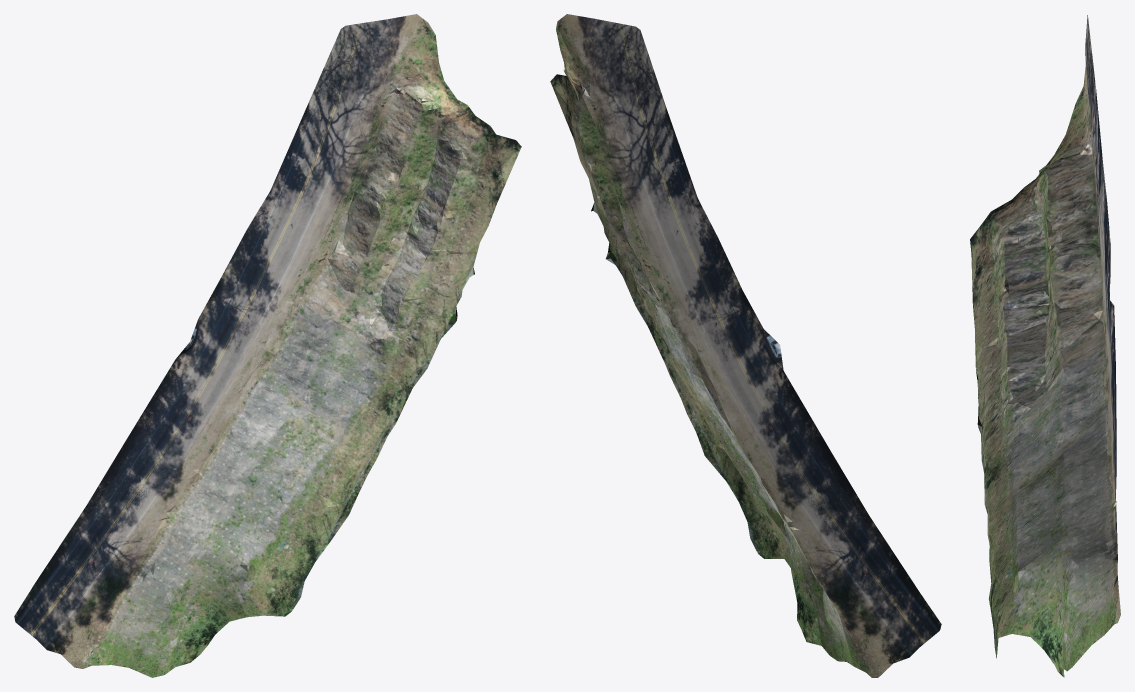
File: superficie_t10.glb
The picture shows the model from 3 angles, left to right: view 1: azimuth 30°, elevation 25°; view 2: azimuth 150°, elevation 25°; view 3: azimuth 270°, elevation 25°; orthographic projection. The views are drawn at different scales.
Visible parts, largest first — view 1: Bloco t_1_1_1; view 2: Bloco t_1_1_1; view 3: Bloco t_1_1_1.
Boxes of the visible parts, <box> form: Bloco t_1_1_1: <box>14,14,521,677</box>; Bloco t_1_1_1: <box>550,14,941,677</box>; Bloco t_1_1_1: <box>970,15,1120,677</box>.
Size of the model in its own units: 77.5 by 98.17 by 17.23.
1 material, 1 textured.
